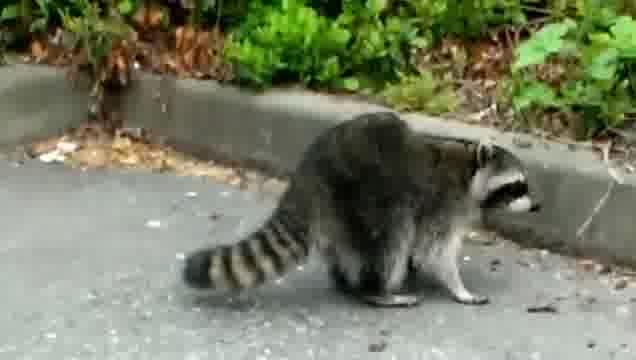raccoon: (183, 109, 541, 306)
